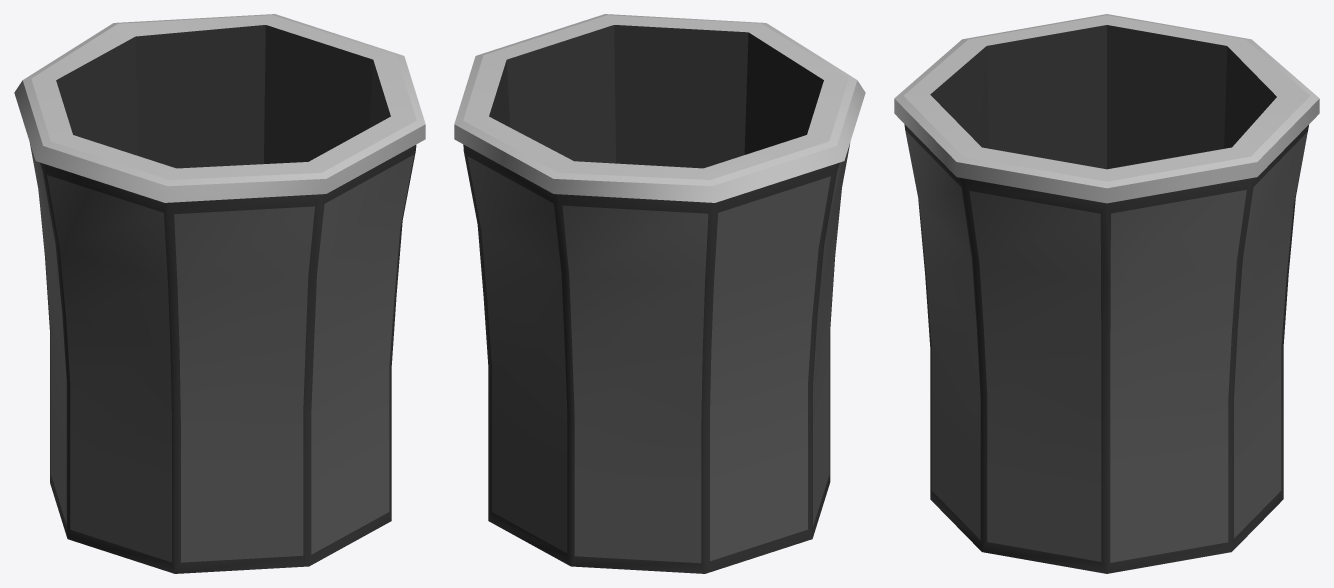
Rendered from Unwrapped_TrashCan.fbx.
The picture shows the model from 3 angles, left to right: view 1: azimuth 30°, elevation 25°; view 2: azimuth 150°, elevation 25°; view 3: azimuth 270°, elevation 25°; orthographic projection.
Visible parts, largest first — view 1: trash; view 2: trash; view 3: trash.
Part boxes in pixels (x1,y1,x2,y2): trash: (14, 14, 425, 573); trash: (454, 14, 865, 573); trash: (894, 14, 1319, 573).
Size of the model in its own units: 68.48 by 71.82 by 68.48.
